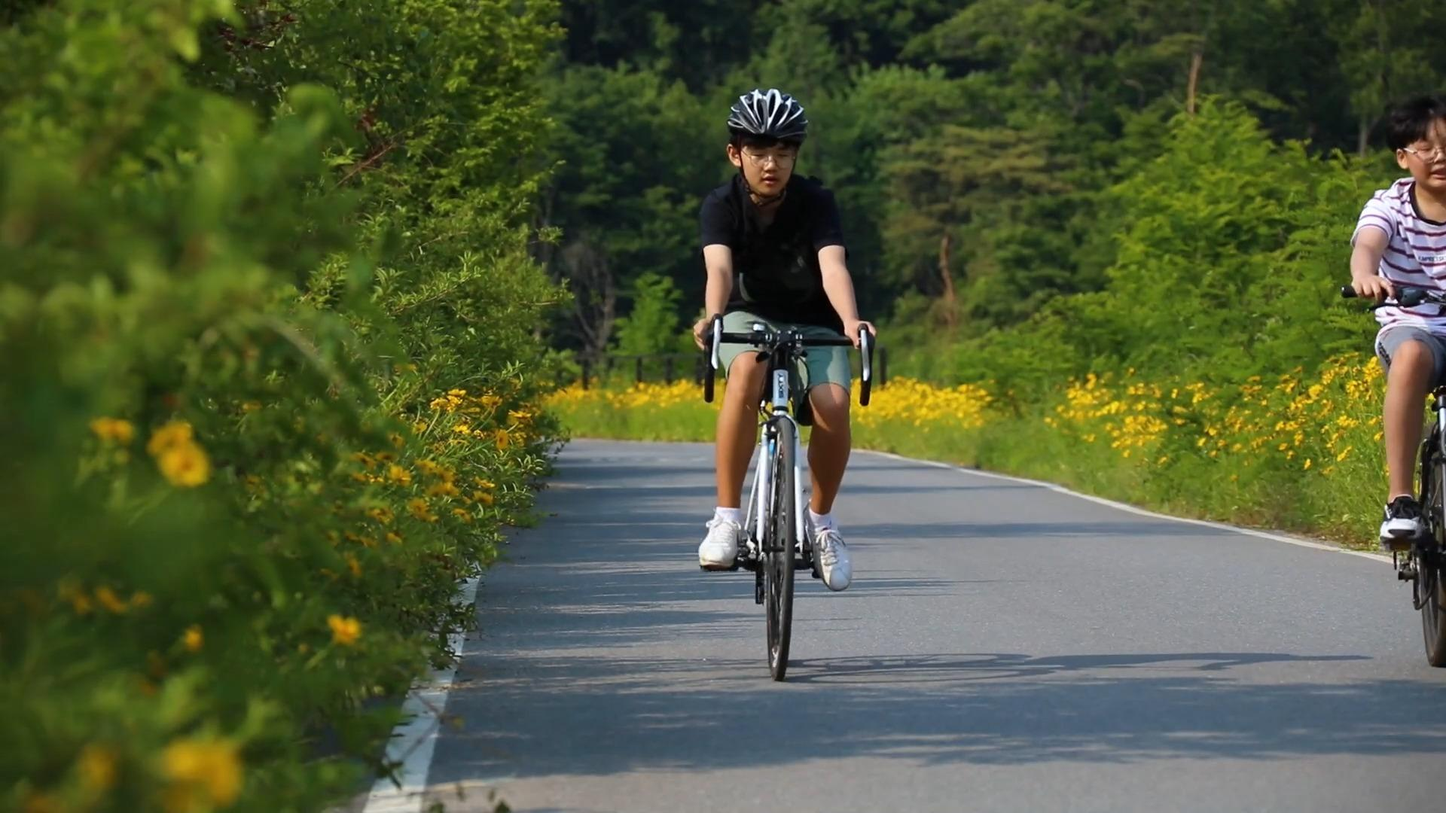bicyclist: (695, 87, 880, 687), (1340, 96, 1446, 673)
helmet: (725, 87, 809, 209)
no-helmet: (1387, 95, 1446, 195)
